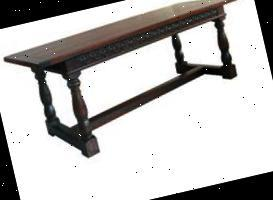Mesa: (0, 0, 269, 170)
